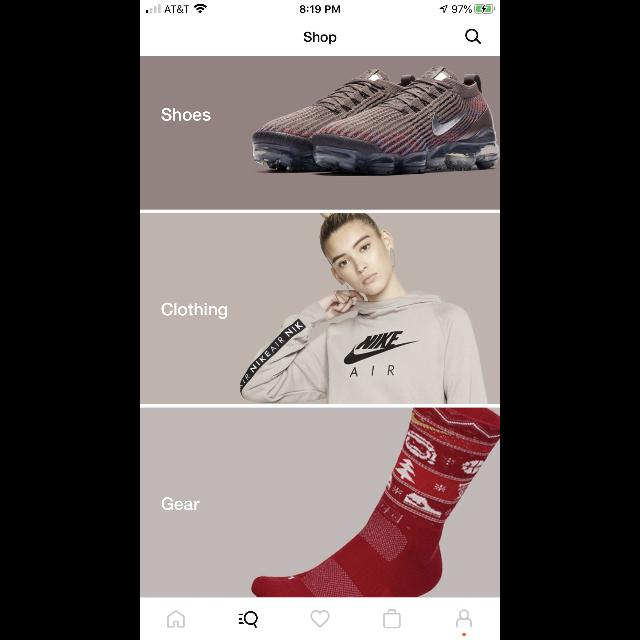icon: (310, 610, 330, 628), (238, 610, 258, 628), (384, 610, 401, 628), (168, 610, 185, 628), (456, 610, 472, 628)
image: (140, 213, 500, 404), (140, 408, 500, 596), (140, 56, 500, 210)
text: (161, 303, 227, 319), (162, 108, 210, 122), (162, 498, 200, 510), (304, 32, 336, 44)
uppertaskbar: (140, 0, 500, 14)
